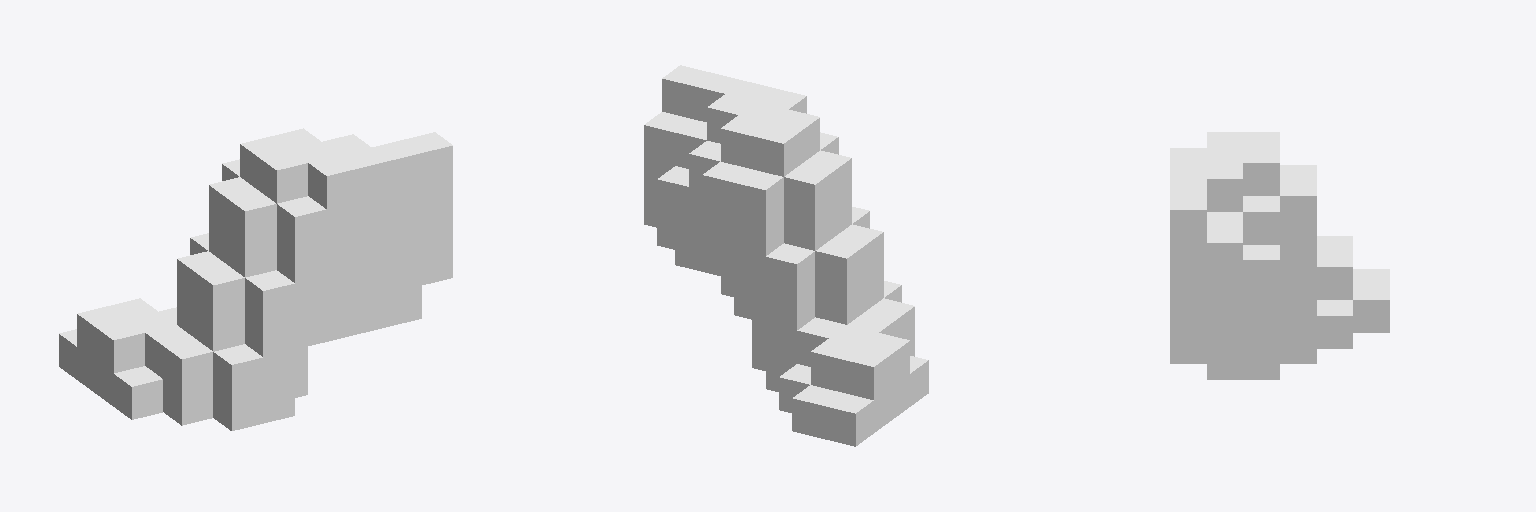
File: generation_of_chaos_1-2.obj
The picture shows the model from 3 angles: view 1: azimuth 30°, elevation 25°; view 2: azimuth 150°, elevation 25°; view 3: azimuth 270°, elevation 25°; orthographic projection.
Parts seen in each view (by area): view 1: object 1; view 2: object 1; view 3: object 1.
Part boxes in pixels (x1,y1,x2,y2): object 1: (59,128,452,430); object 1: (644,65,928,446); object 1: (1170,132,1389,379).
Size of the model in its own units: 0.9 by 0.7 by 0.6.